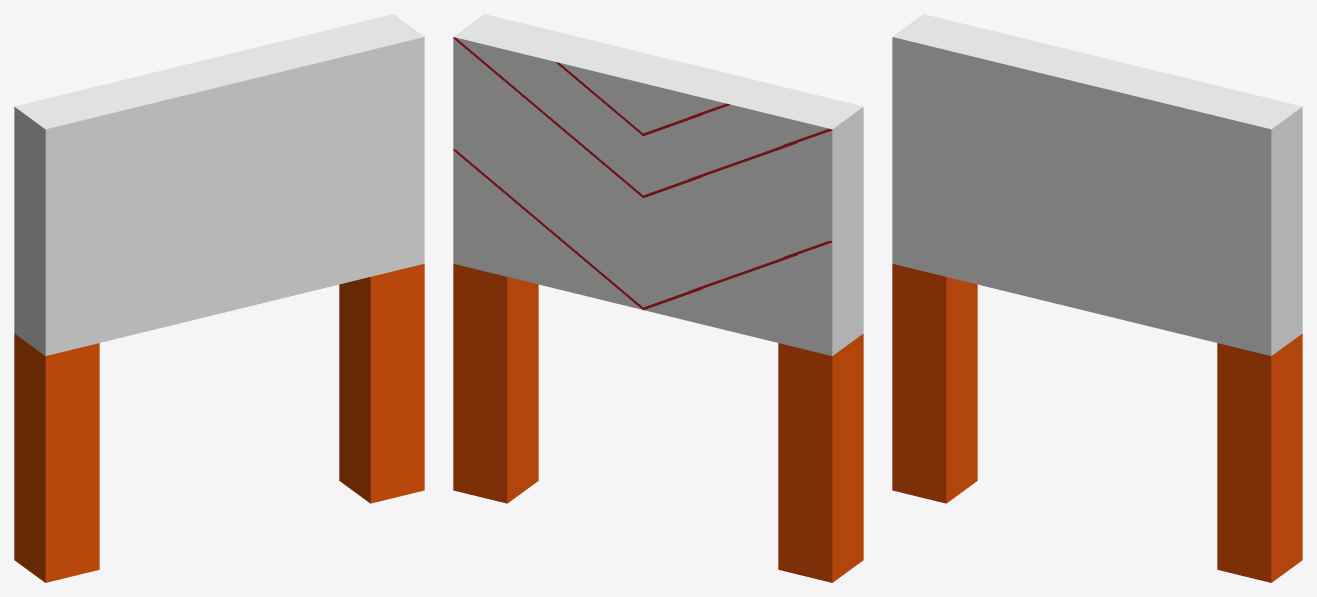
Rendered from Panel.fbx.
The picture shows the model from 3 angles, left to right: view 1: azimuth 30°, elevation 25°; view 2: azimuth 150°, elevation 25°; view 3: azimuth 330°, elevation 25°; orthographic projection.
Parts seen in each view (by area): view 1: Panel, Base; view 2: Panel, Base; view 3: Panel, Base.
Boxes of the visible parts, x1,y1,x2,y2 form: Panel: [14, 14, 424, 355]; Base: [14, 263, 424, 582]; Panel: [453, 14, 863, 355]; Base: [453, 263, 863, 582]; Panel: [892, 14, 1302, 355]; Base: [892, 263, 1302, 582].
Bounding box in the file's own units: 350 × 400 × 50.
